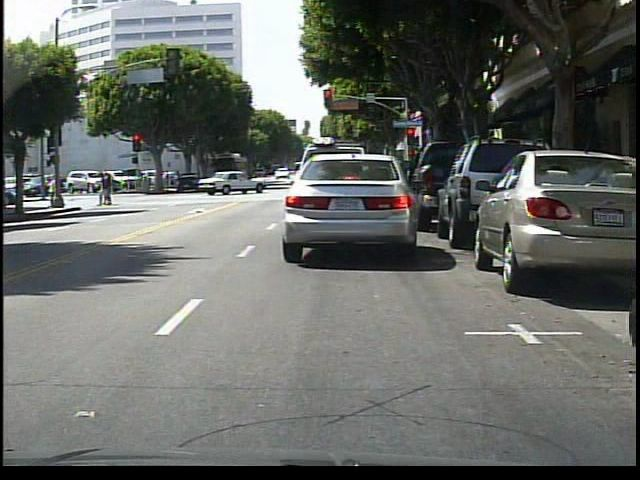person: (99, 174, 119, 208), (48, 174, 62, 208)
